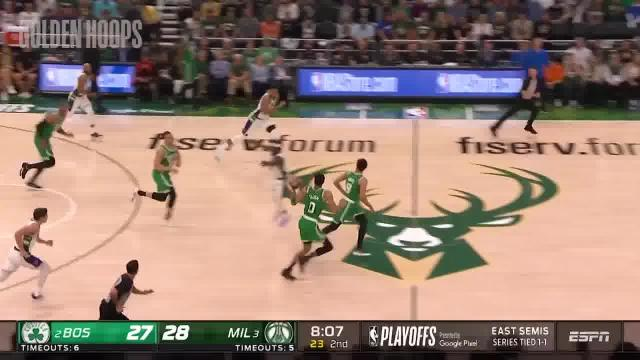ball-handler: (279, 172, 345, 287)
player: (6, 200, 56, 300), (328, 160, 378, 259), (25, 97, 73, 183), (145, 125, 180, 229), (64, 61, 104, 146), (240, 80, 282, 159), (264, 142, 298, 226)
